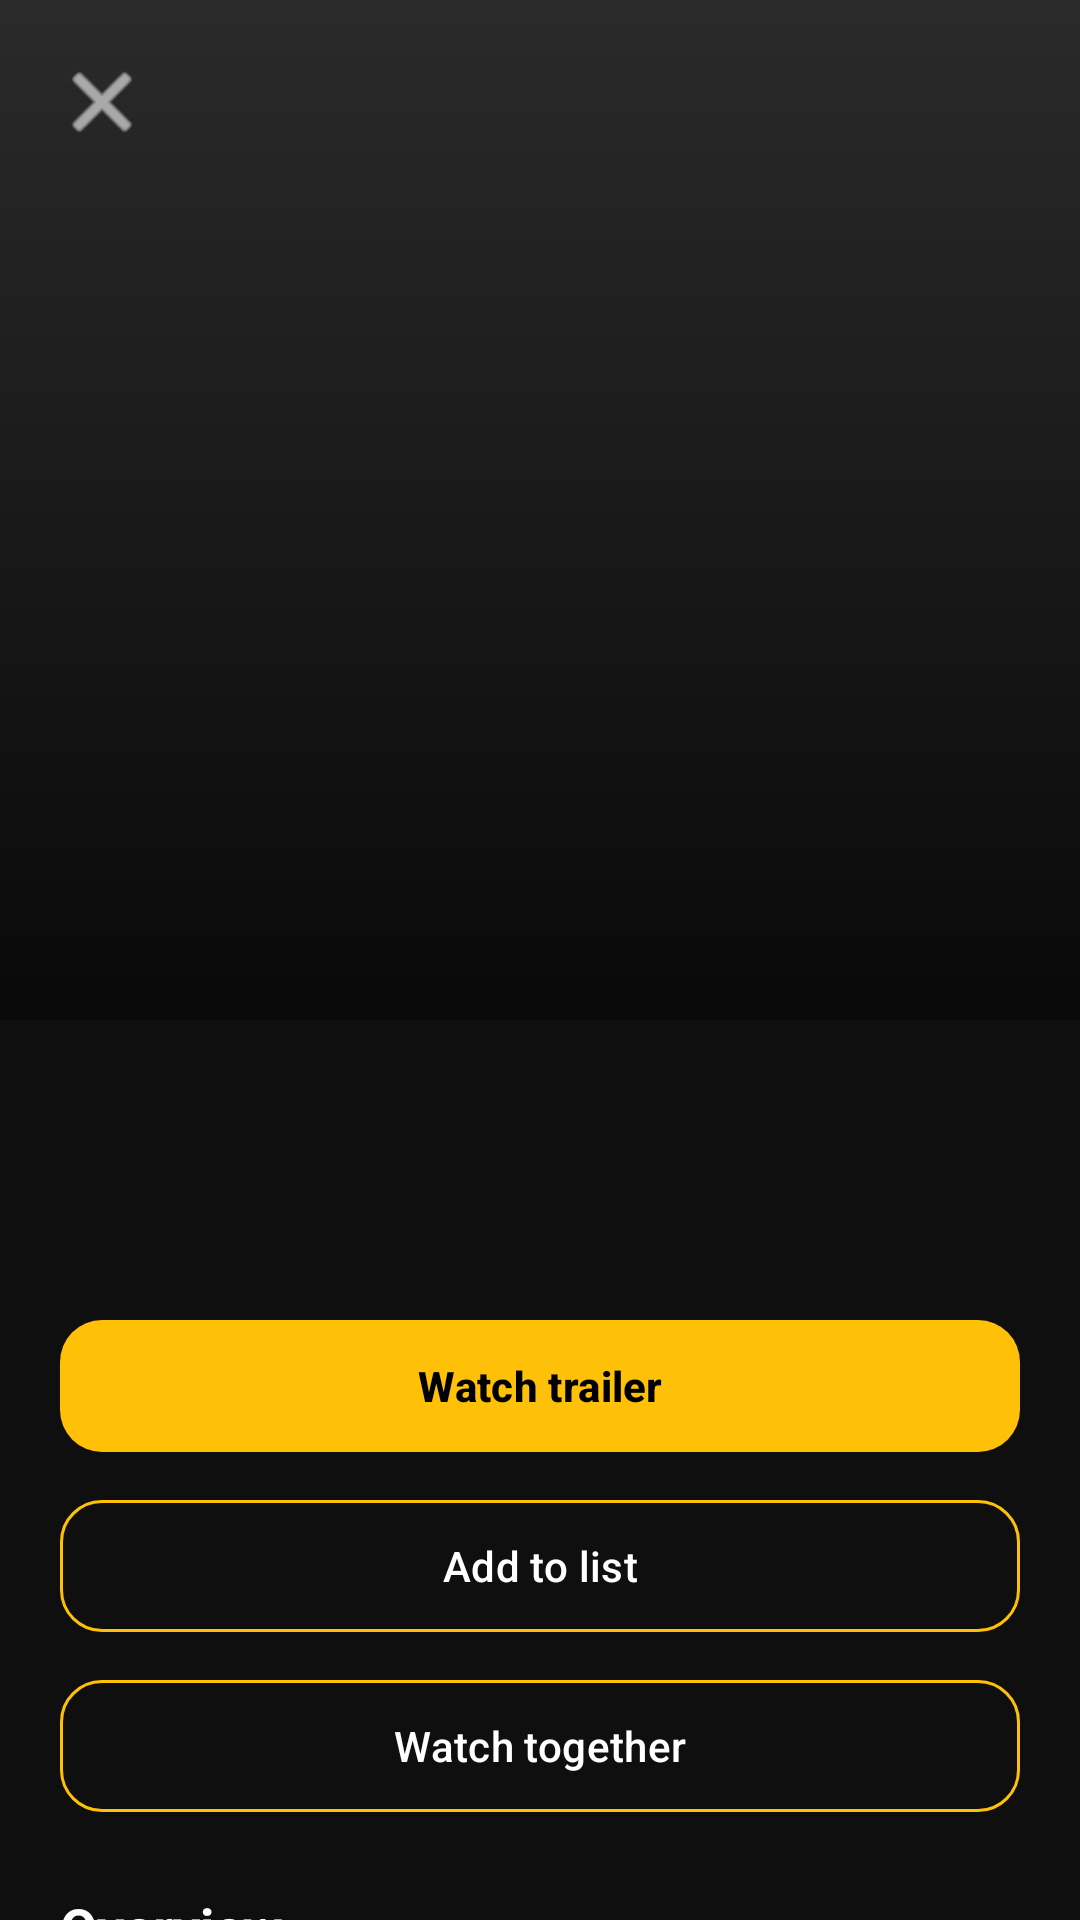

Where to tap for icons on this 1080×1920 app screen, as [x,y]:
close clear cancel: [102,102]
